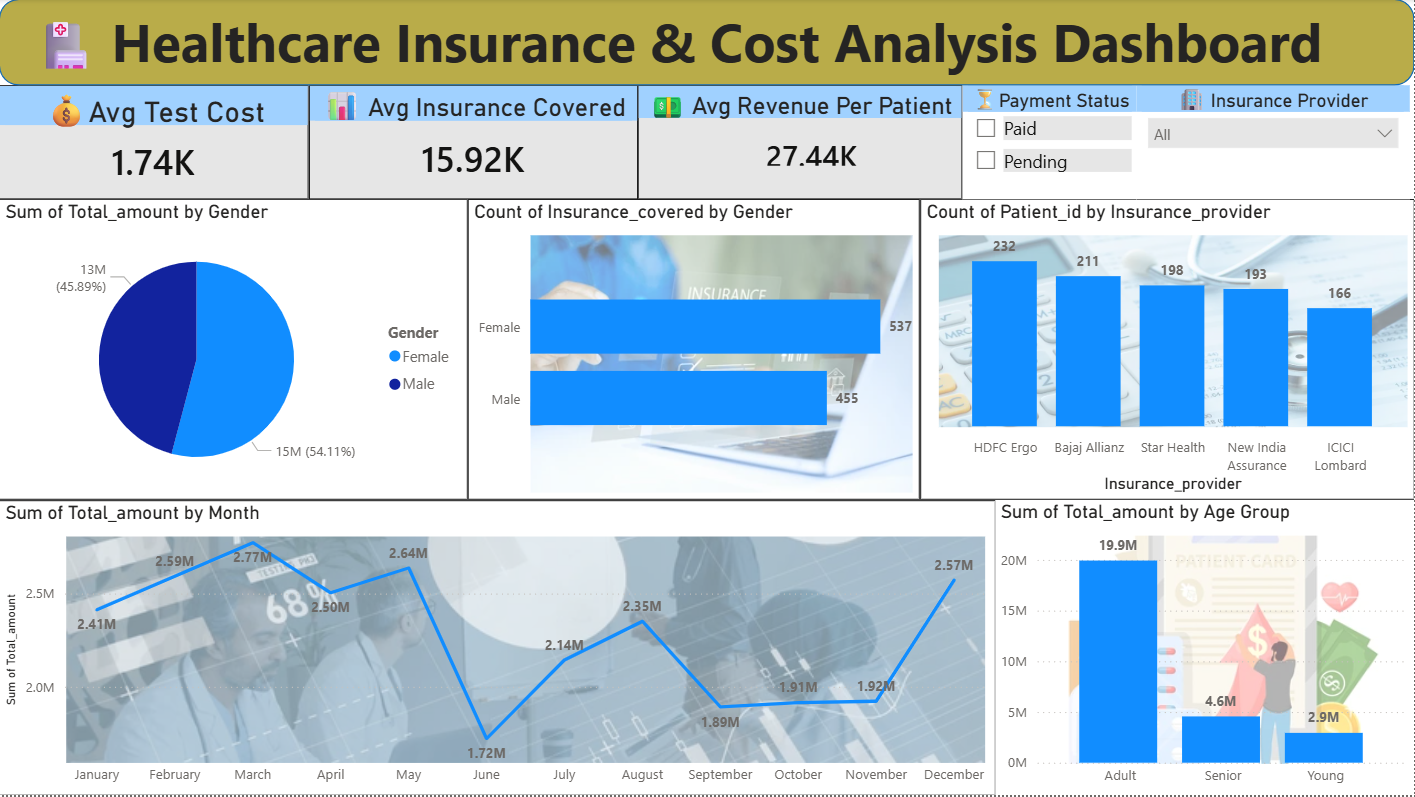

Layout of this report page (visuals, bound fields, positions):
{"tool":"powerbi","page":{"name":"Insurance & Risk Analysis","canvas":[1280,720],"ordinal":2},"visuals":[{"type":"columnChart","title":"Count of Patient by Insurance provider","fields":{"Category":["insurance.Insurance_provider"],"Y":["CountNonNull(insurance.Patient_id)"]},"box":[832.9,181.1,447.3,271.7],"z":0},{"type":"lineChart","title":"Sum of Total amount by Month","fields":{"Category":["hospital_visit.Visit_date.Variation.Date Hierarchy.Month"],"Y":["Sum(medical_billing.Total_amount)"]},"box":[0,452.8,901.5,267.6],"z":1000},{"type":"pieChart","title":"Sum of Total amount by Gender","fields":{"Y":["Sum(medical_billing.Total_amount)"],"Category":["patients.Gender"]},"box":[0,181.1,424,271.7],"z":2000},{"type":"cardVisual","title":"💵 Avg Revenue Per Patient","fields":{"Data":["medical_cost_prediction hospital_visit.Avg Total Amount"]},"box":[577.7,78.2,293.7,102.9],"z":3000},{"type":"cardVisual","title":"💰Avg Test Cost","fields":{"Data":["medical_cost_prediction hospital_visit.Avg Test Cost"]},"box":[0,78.2,279.9,102.9],"z":4000},{"type":"slicer","title":"⏳Payment Status","fields":{"Values":["medical_cost_prediction medical_billing.Payment_status"]},"box":[870.9,77.9,176.7,103.5],"z":5000},{"type":"slicer","title":"🏢 Insurance Provider","fields":{"Values":["insurance.Insurance_provider"]},"box":[1047.7,79.1,232.6,103.5],"z":6000},{"type":"cardVisual","title":"📊 Avg Insurance Covered","fields":{"Data":["medical_billing.Avg Insurance Covered"]},"box":[279.9,78.2,297.8,102.9],"z":7000},{"type":"clusteredBarChart","title":"Count of Insurance covered by Gender","fields":{"Category":["patients.Gender"],"Y":["Count(medical_billing.Insurance_covered)"]},"box":[424,181.1,408.9,271.7],"z":8000},{"type":"clusteredColumnChart","title":"Sum of Total amount by Age Group","fields":{"Category":["patients.Age Group"],"Y":["Sum(medical_billing.Total_amount)"]},"box":[901.5,452.8,378.7,267.6],"z":9000},{"type":"shape","box":[0,0,1280.3,78.2],"z":10000},{"type":"textbox","box":[24.7,0,1180.1,94.7],"z":11000}]}

Visuals, with their boxes in screenshot pixels (x1, y1, x2, y2), scaled from the page's 1280x720 canvas onto the 1415x797 screenshot:
"Count of Patient by Insurance provider" columnChart: 921, 200, 1414, 501
"Sum of Total amount by Month" lineChart: 0, 501, 997, 796
"Sum of Total amount by Gender" pieChart: 0, 200, 469, 501
"💵 Avg Revenue Per Patient" cardVisual: 639, 87, 963, 200
"💰Avg Test Cost" cardVisual: 0, 87, 309, 200
"⏳Payment Status" slicer: 963, 86, 1158, 201
"🏢 Insurance Provider" slicer: 1158, 88, 1414, 202
"📊 Avg Insurance Covered" cardVisual: 309, 87, 639, 200
"Count of Insurance covered by Gender" clusteredBarChart: 469, 200, 921, 501
"Sum of Total amount by Age Group" clusteredColumnChart: 997, 501, 1414, 796
shape: 0, 0, 1414, 87
textbox: 27, 0, 1332, 105
